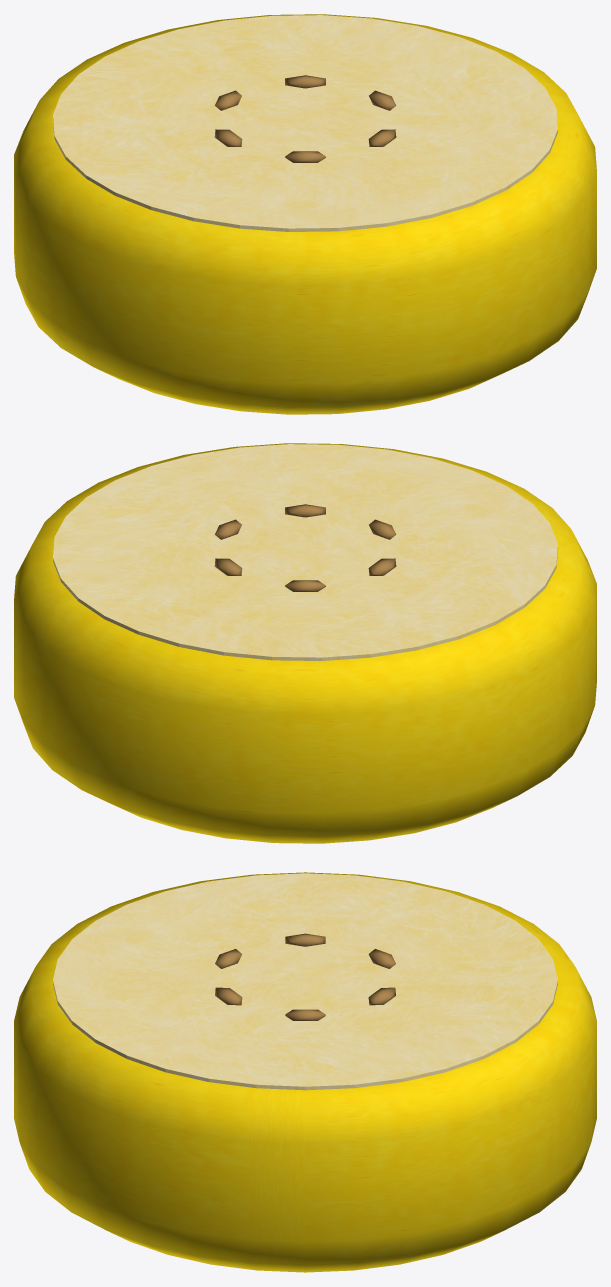
The model's file is banana_slice-DWrn7DdX.glb.
3 renders of one model, top to bottom at view 1: azimuth 30°, elevation 25°; view 2: azimuth 150°, elevation 25°; view 3: azimuth 270°, elevation 25°, orthographic.
Visible parts, largest first — view 1: FLV5_BananaSlice; view 2: FLV5_BananaSlice; view 3: FLV5_BananaSlice.
Part boxes in pixels (x1=…): FLV5_BananaSlice: x1=14, y1=14, x2=596, y2=414; FLV5_BananaSlice: x1=14, y1=443, x2=596, y2=843; FLV5_BananaSlice: x1=14, y1=872, x2=596, y2=1272.
Bounding box in the file's own units: 0.3416 × 0.126 × 0.3416.
Materials: 3 (2 with a texture image).
